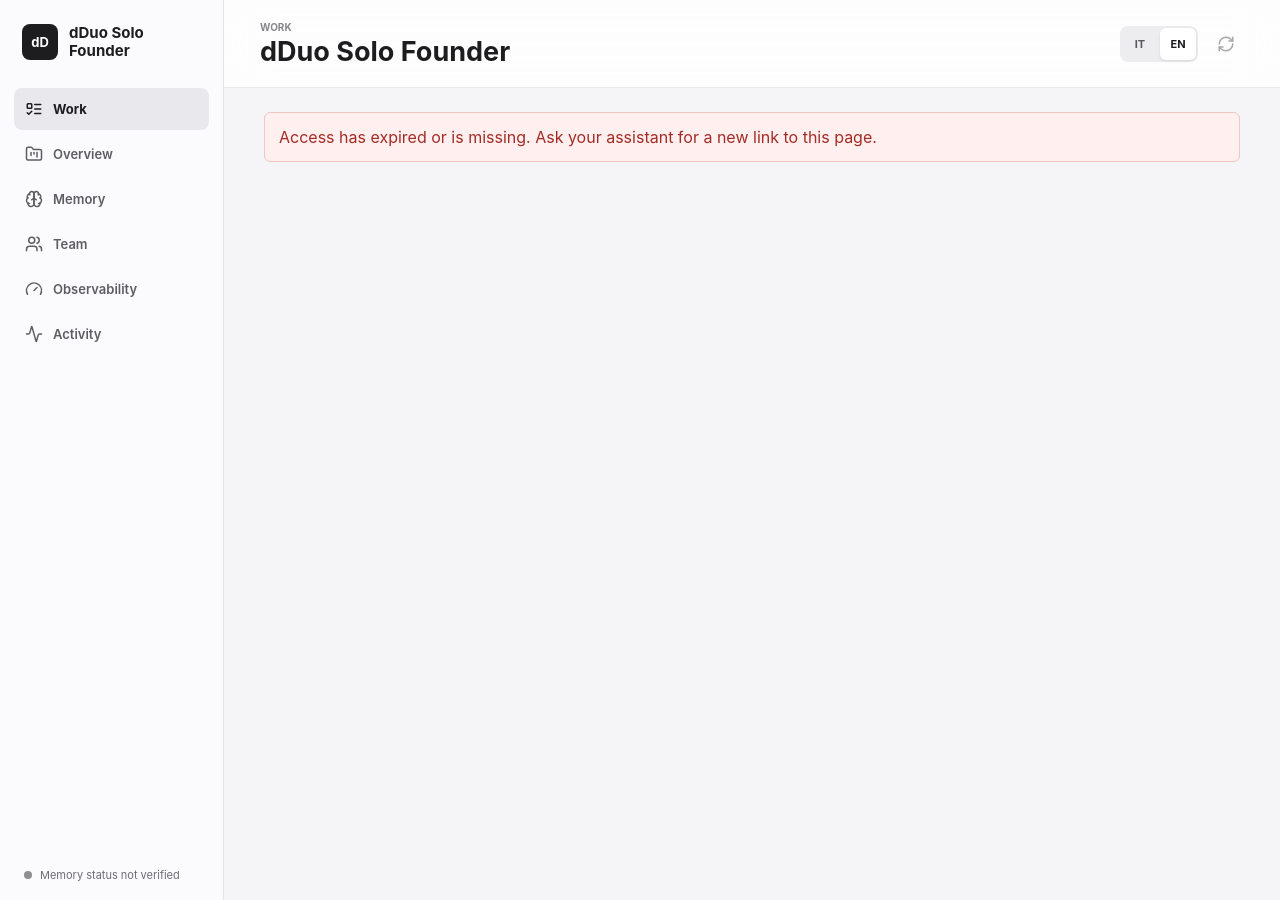
Test: App › explains expired access_token in IT/EN without retrying rejected credentials
The image size is (1280, 900).
Check: the message shows "Access has expired or is missing", box x1=279 y1=127 x2=877 y2=147
Click the button with aria-label "Italian". click: (1140,44)
box: x1=1122 y1=28 x2=1158 y2=60
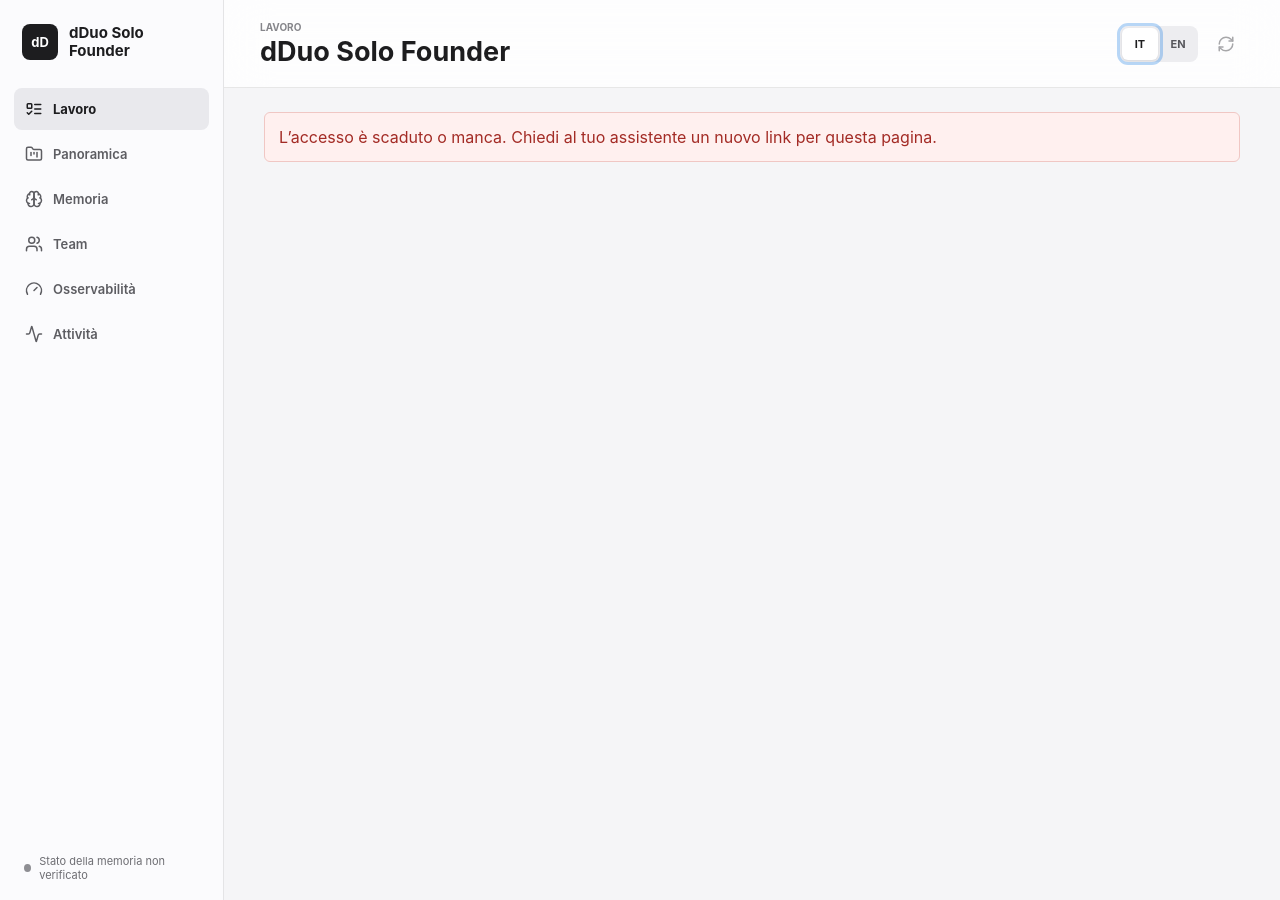
Check: the message shows "Chiedi al tuo assistente un nuovo link", box x1=279 y1=127 x2=937 y2=147
